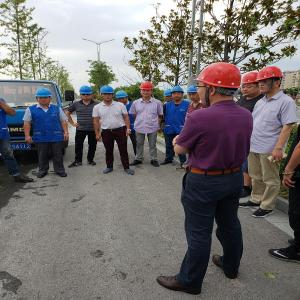blue: (34, 88, 54, 106), (99, 86, 116, 103), (187, 86, 202, 103), (80, 86, 94, 102), (171, 88, 187, 102), (116, 91, 129, 105), (164, 89, 175, 104)
red: (198, 63, 240, 105), (255, 67, 285, 95), (241, 73, 260, 99), (139, 82, 155, 99)
